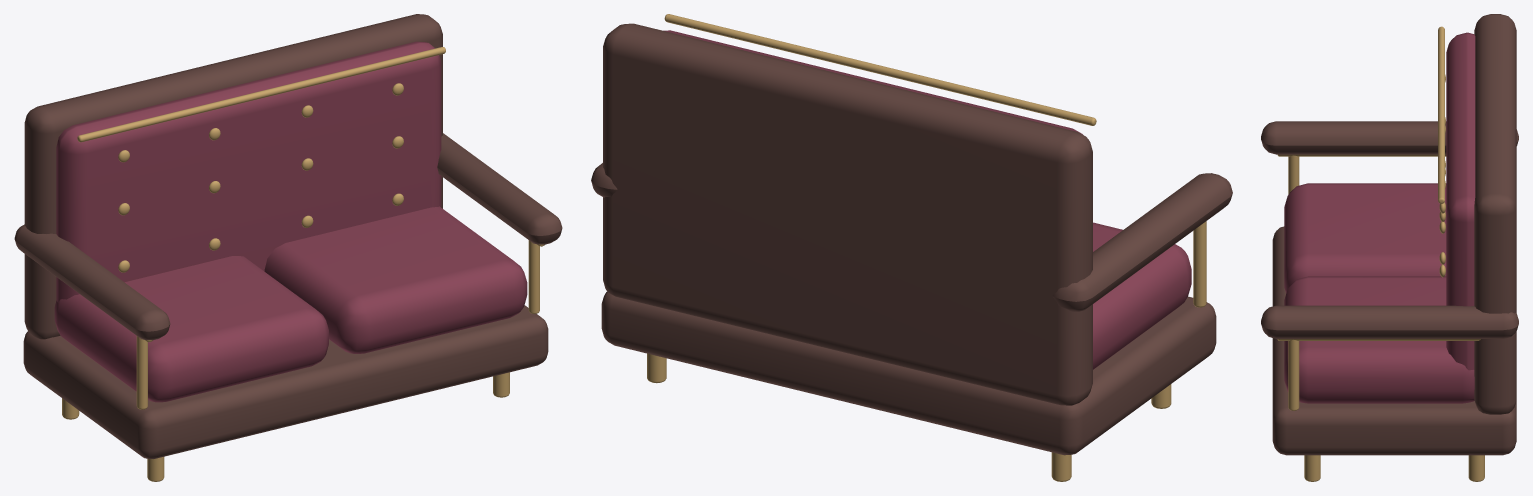
The model's file is settee.glb.
3 views of the same model, side by side, from view 1: azimuth 30°, elevation 25°; view 2: azimuth 150°, elevation 25°; view 3: azimuth 270°, elevation 25° (orthographic). The views are drawn at different scales.
Parts seen in each view (by area): view 1: settee; view 2: settee; view 3: settee.
Part boxes in pixels (x1,y1,x2,y2): settee: (14, 14, 562, 481); settee: (591, 14, 1232, 481); settee: (1261, 14, 1518, 481).
Bounding box in the file's own units: 2.02 × 1.38 × 1.1.
